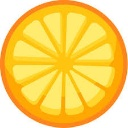orange: (1, 1, 128, 128)
